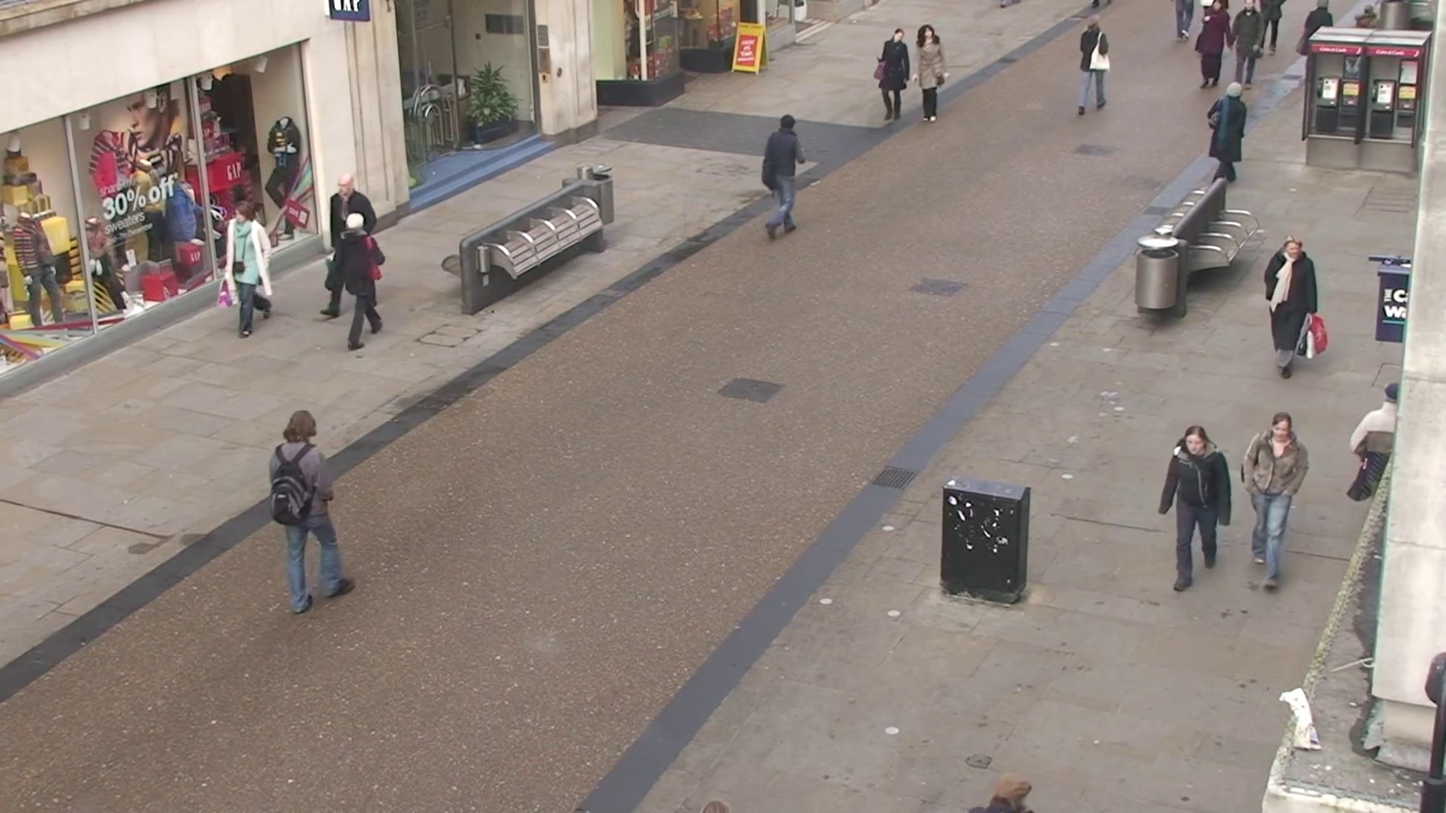person: (268, 410, 352, 615), (1159, 425, 1234, 592), (1243, 412, 1309, 590), (1264, 235, 1322, 379), (226, 199, 275, 337), (1344, 383, 1398, 503), (342, 216, 388, 352), (761, 114, 808, 237), (1207, 84, 1249, 184), (874, 28, 911, 123), (914, 23, 947, 122), (1194, 2, 1230, 91), (1078, 23, 1110, 114), (1230, 3, 1263, 87)
